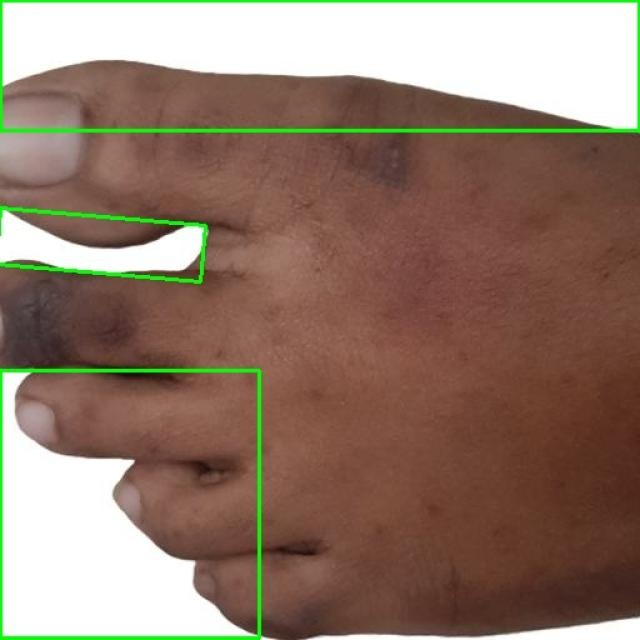Tinea Corporis: (0, 0, 639, 130), (0, 371, 260, 639), (0, 208, 206, 282)
